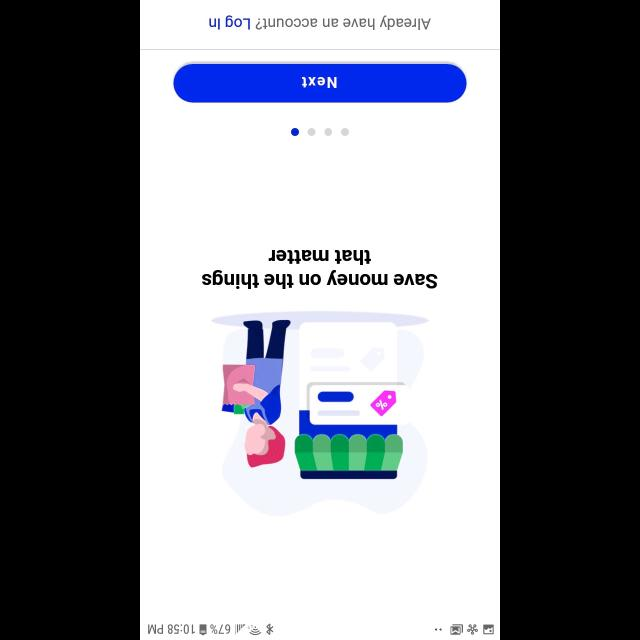image: (211, 311, 429, 517)
pageindicator: (290, 128, 350, 136)
text: (202, 250, 438, 290), (209, 15, 431, 30)
textbutton: (174, 64, 466, 102)
uppertaskbar: (140, 622, 500, 640)
